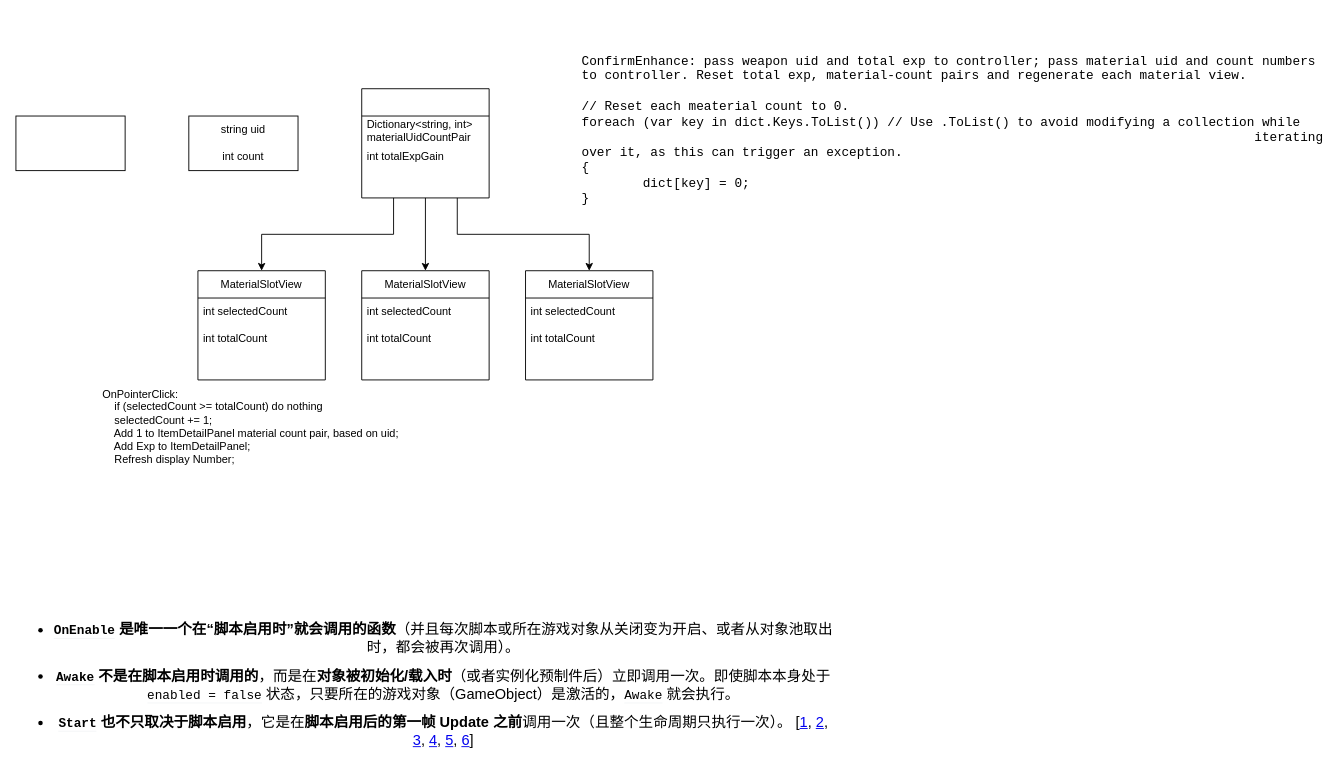
Image size: 1340x775. Some labels were removed from this diagram. The shapes that lost their labels are listed below. From the top down, each one's box as (x1, y1, x2, y2) in pixels, then its label:
(15, 115, 125, 171): int expGain
(361, 88, 489, 198): ItemDetailPanel
